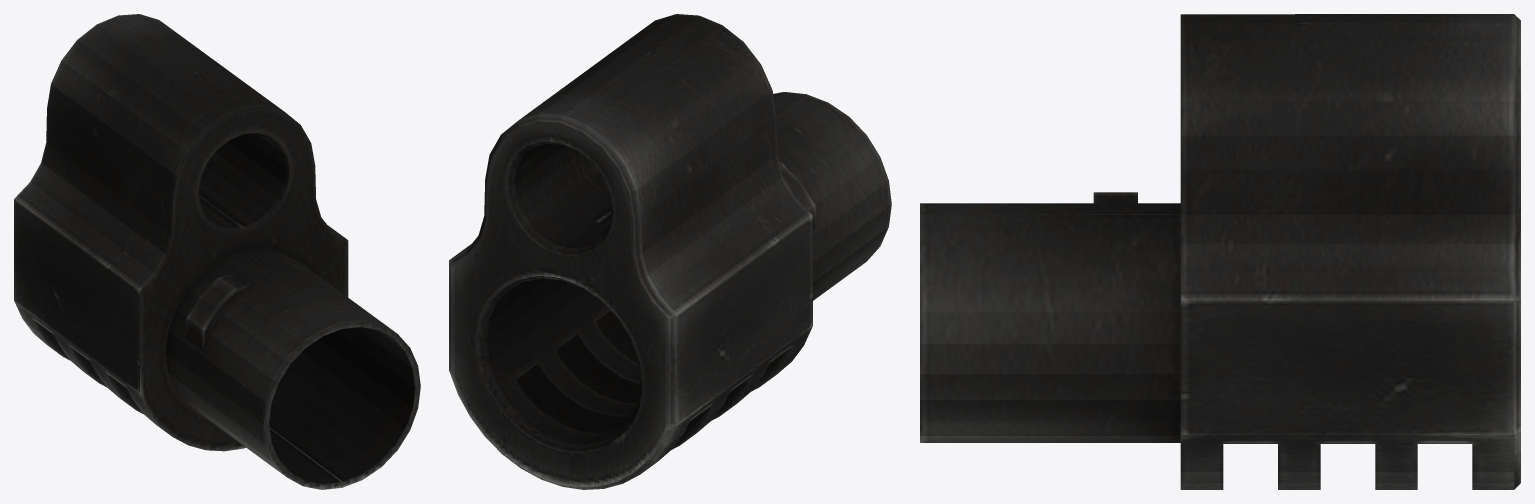
3 views of the same model, side by side, from view 1: azimuth 30°, elevation 25°; view 2: azimuth 150°, elevation 25°; view 3: azimuth 270°, elevation 25° (orthographic). The views are drawn at different scales.
Visible parts, largest first — view 1: TW_5ef61964ec7f42238c31e0c1_PZ_Import; view 2: TW_5ef61964ec7f42238c31e0c1_PZ_Import; view 3: TW_5ef61964ec7f42238c31e0c1_PZ_Import.
Part boxes in pixels (<box>): TW_5ef61964ec7f42238c31e0c1_PZ_Import: <box>14,14,420,489</box>; TW_5ef61964ec7f42238c31e0c1_PZ_Import: <box>449,14,891,489</box>; TW_5ef61964ec7f42238c31e0c1_PZ_Import: <box>920,14,1520,489</box>.
Size of the model in its own units: 0.0134 by 0.0251 by 0.0209.
1 material, 1 textured.
